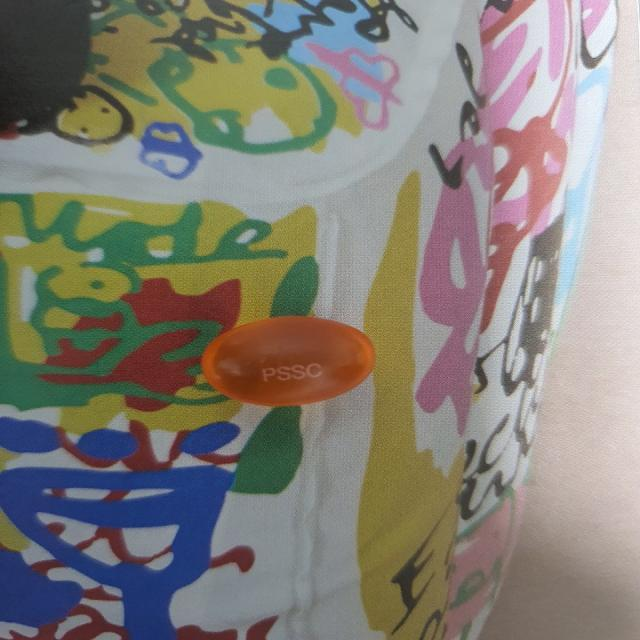pill: (183, 304, 397, 422)
